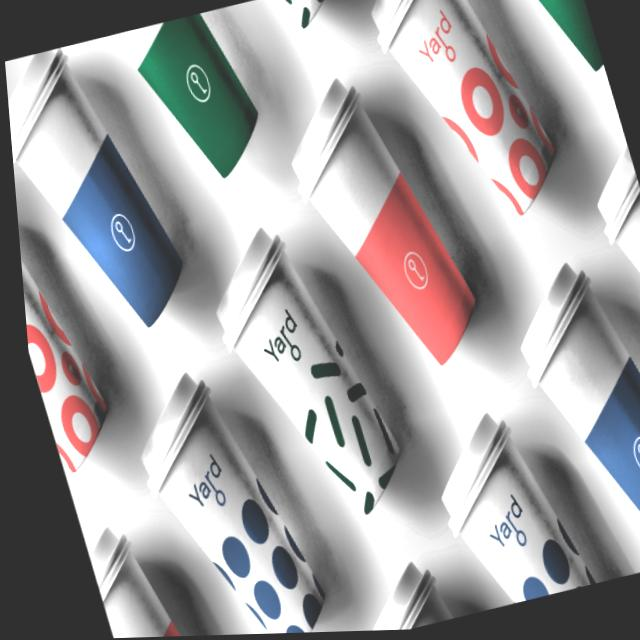Cup: (254, 51, 494, 398), (181, 204, 420, 550), (99, 344, 330, 638), (2, 31, 204, 357), (337, 0, 574, 250), (476, 238, 640, 592), (408, 396, 589, 616), (98, 5, 280, 203)
